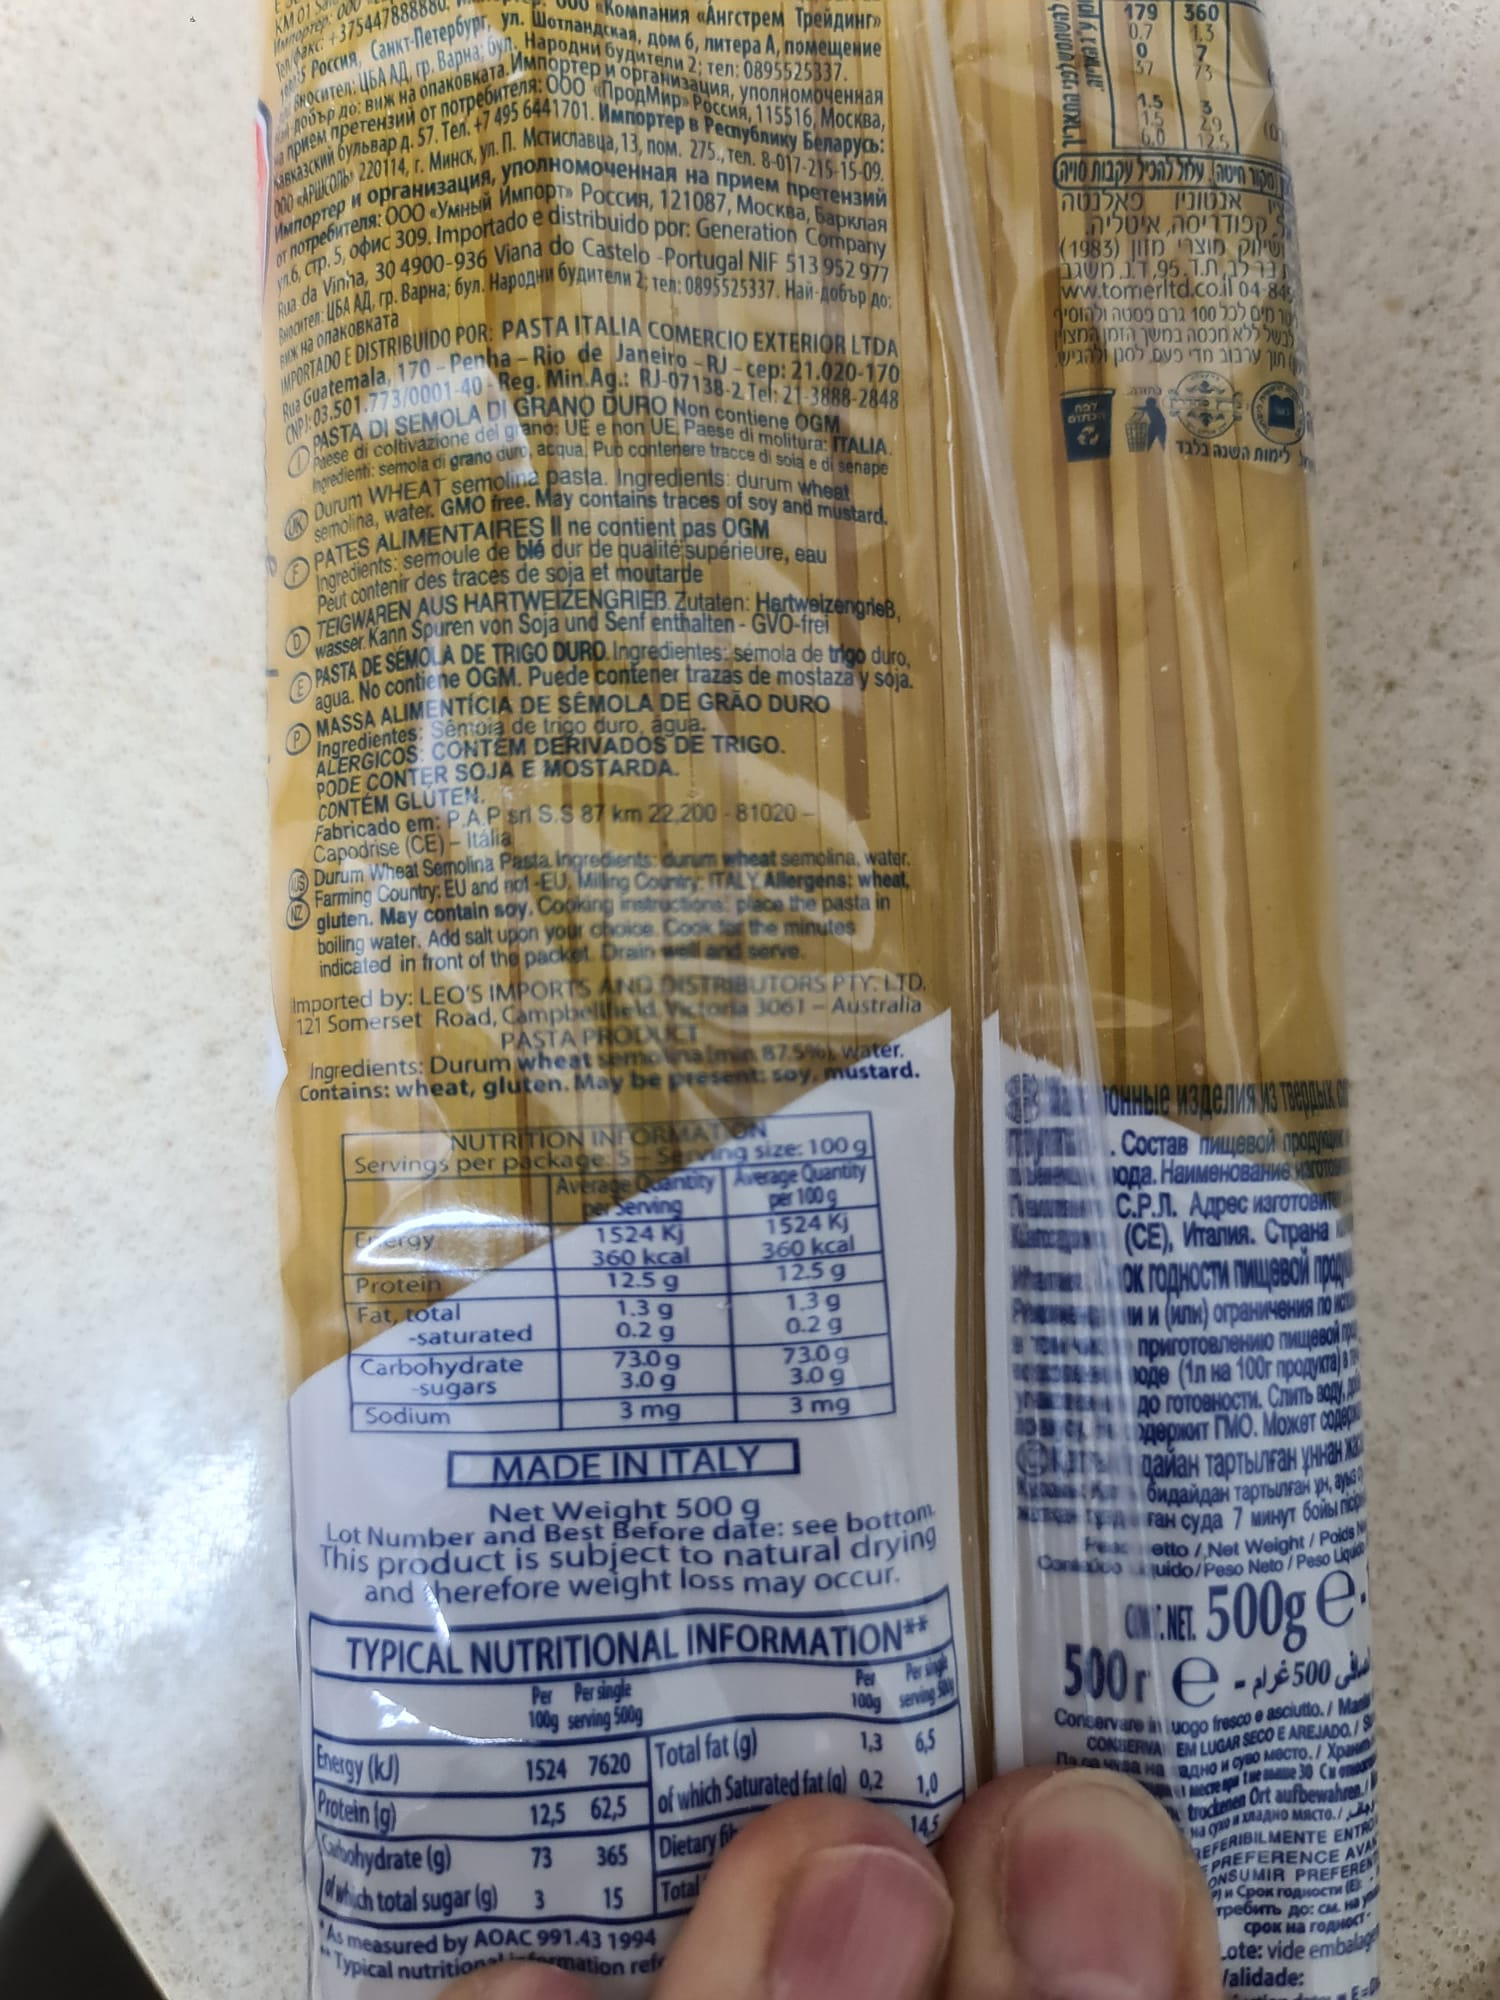l: (291, 1035, 941, 1099)
